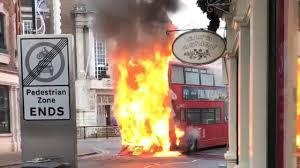fire: (111, 37, 183, 156)
